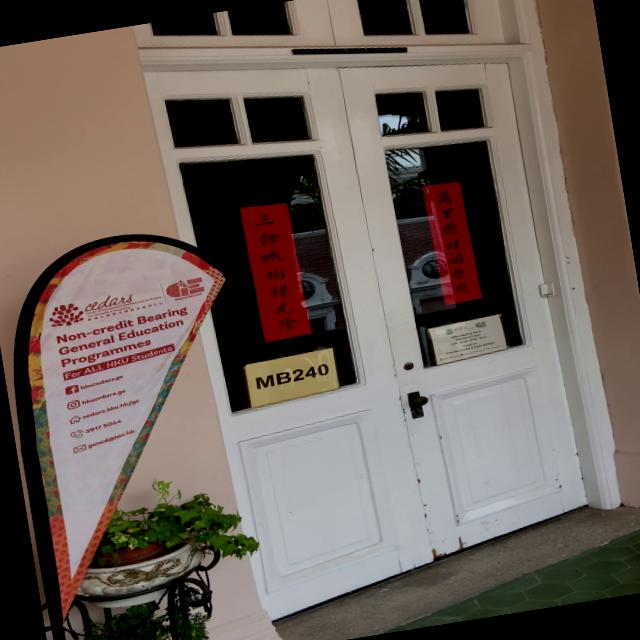room240: (240, 346, 344, 406)
